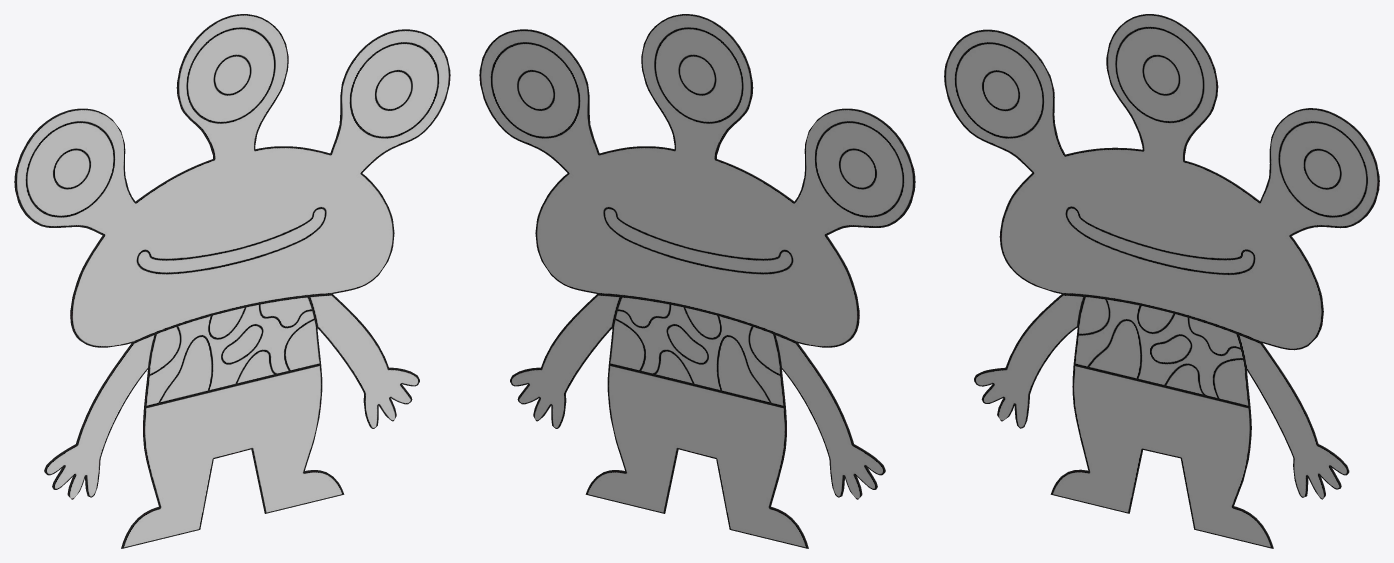
Rendered from 35_nuri-01.fbx.
The picture shows the model from 3 angles, left to right: view 1: azimuth 30°, elevation 25°; view 2: azimuth 150°, elevation 25°; view 3: azimuth 330°, elevation 25°; orthographic projection.
Visible parts, largest first — view 1: planarTrimmedSurface4; view 2: planarTrimmedSurface4; view 3: planarTrimmedSurface4.
Part boxes in pixels (x1=…): planarTrimmedSurface4: x1=14, y1=14, x2=450, y2=548; planarTrimmedSurface4: x1=479, y1=14, x2=915, y2=548; planarTrimmedSurface4: x1=944, y1=14, x2=1379, y2=548.
Size of the model in its own units: 34.41 by 38.22 by 0.0881.
1 material, 1 textured.
